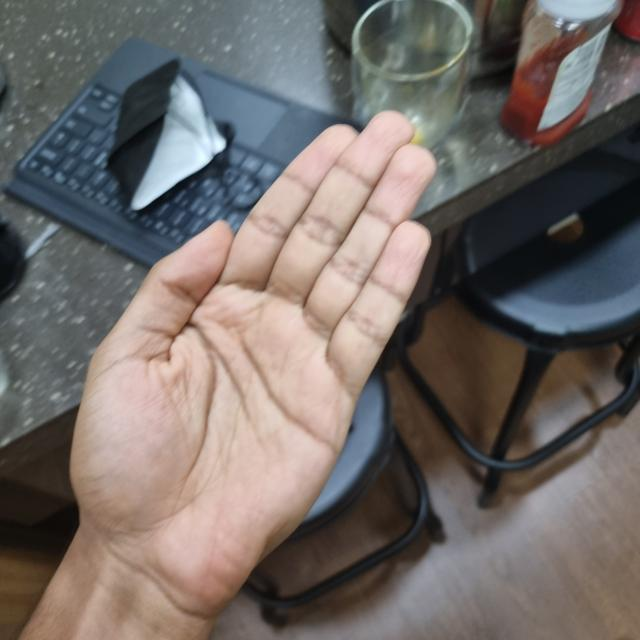Paper: (72, 110, 436, 592)
